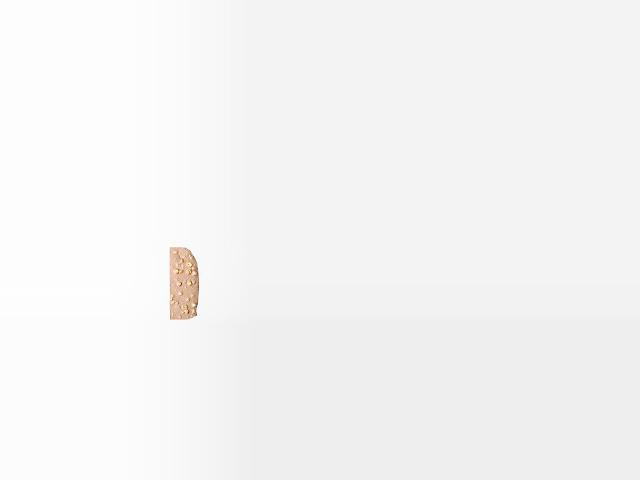chocolate: (166, 247, 204, 319)
